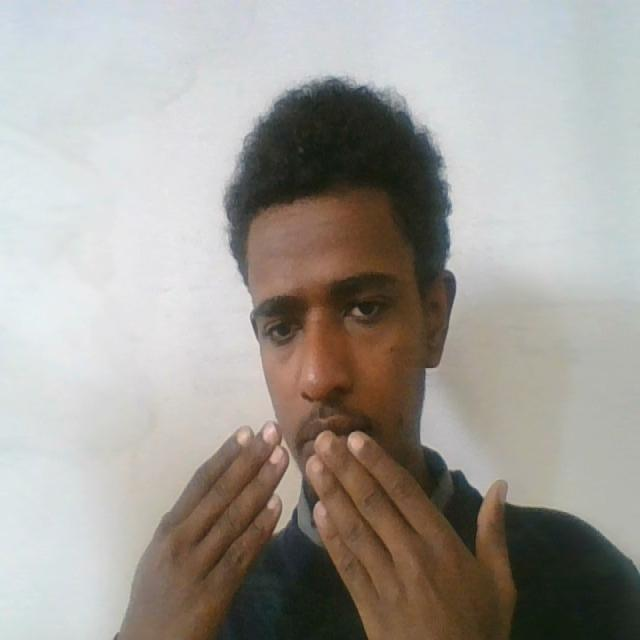thanks: (92, 416, 540, 640)
